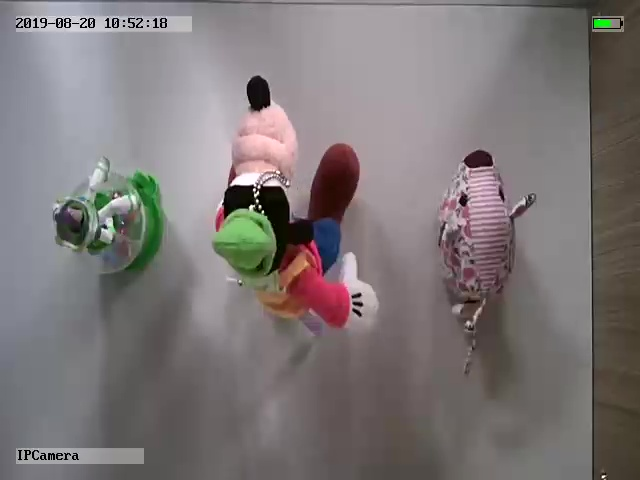buzz: (50, 155, 165, 274)
goofy: (211, 74, 380, 338)
pig: (436, 147, 536, 378)
